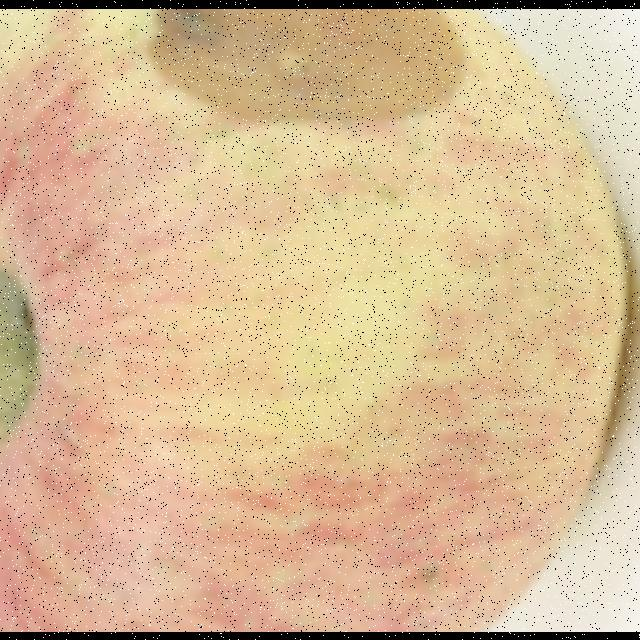Apel Segar: (0, 8, 614, 632)
Apel Tidak Segar: (132, 8, 480, 137)
